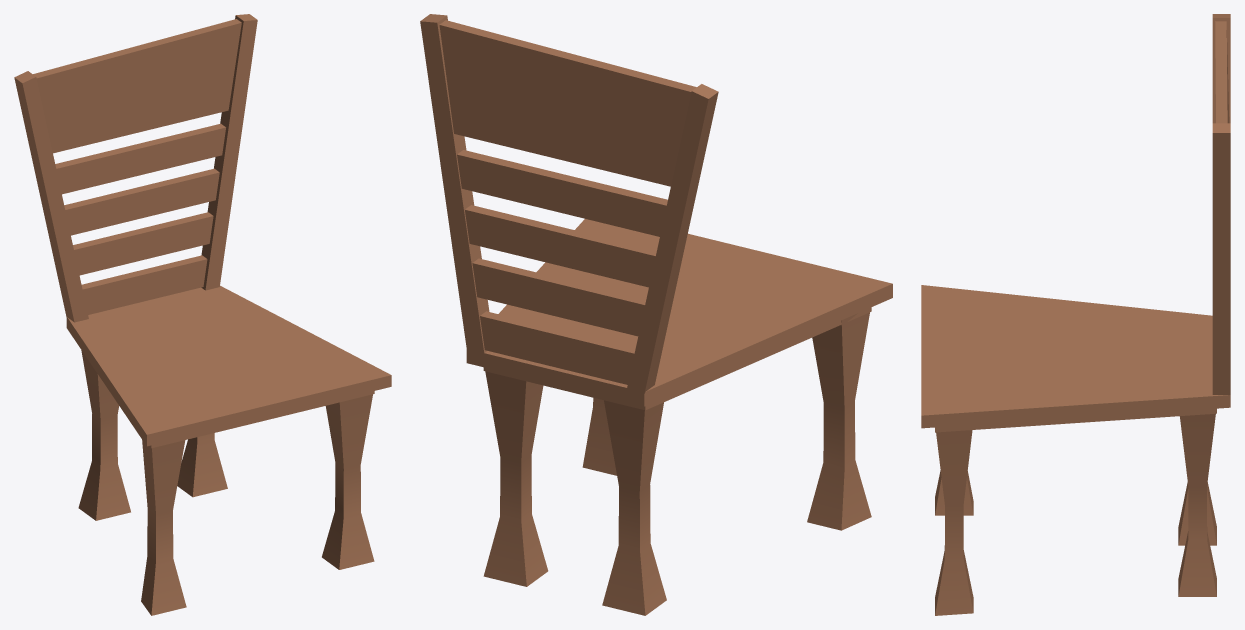
File: Chair.fbx
The picture shows the model from 3 angles, left to right: view 1: azimuth 30°, elevation 25°; view 2: azimuth 150°, elevation 25°; view 3: azimuth 270°, elevation 25°; orthographic projection. The views are drawn at different scales.
Parts seen in each view (by area): view 1: Chair; view 2: Chair; view 3: Chair.
Boxes of the visible parts, left/top/right/bottom form: Chair: left=14, top=14, right=391, bottom=615; Chair: left=420, top=14, right=892, bottom=615; Chair: left=921, top=14, right=1230, bottom=615.
Size of the model in its own units: 4.39 by 7.68 by 4.39.
